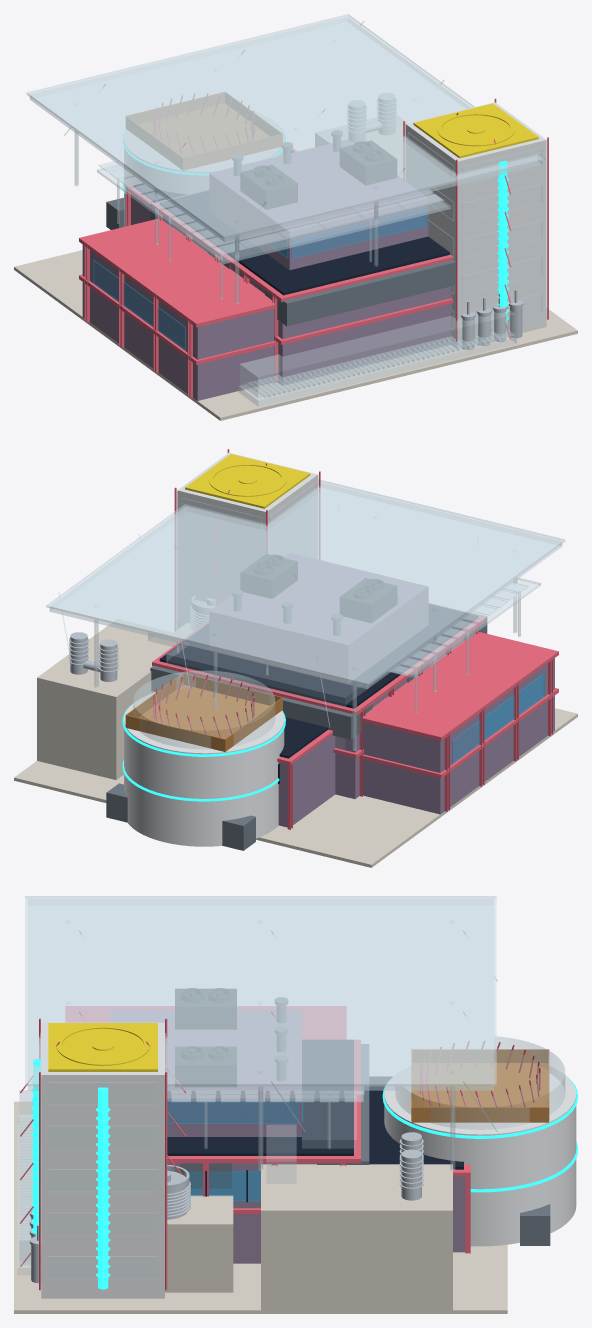
Rendered from hq_05_chassis_l7.glb.
3 renders of one model, top to bottom at view 1: azimuth 30°, elevation 25°; view 2: azimuth 150°, elevation 25°; view 3: azimuth 270°, elevation 25°, orthographic. The views are drawn at different scales.
Parts seen in each view (by area): view 1: GEO_Chassis_Aerodynamic_Glass_Canopy, GEO_Chassis_Quantum_Compute_Tower, GEO_Chassis_Damper_Lab_Shell, GEO_Chassis_KC_Structural_Beams, GEO_Chassis_KC_Wing_Brick, GEO_Chassis_MagLev_Test_Chamber, GEO_Chassis_Foundation_Plinth, GEO_Chassis_Brick_Halls, GEO_Chassis_Photovoltaic_Solar_Canopy, GEO_Chassis_Roof_Parapets_HVAC, GEO_Chassis_Rooftop_Cedar_Terrace, GEO_Chassis_Tower_Curtain_Glass (+15 smaller); view 2: GEO_Chassis_Aerodynamic_Glass_Canopy, GEO_Chassis_Damper_Lab_Shell, GEO_Chassis_DiL_Theater_Cylinder, GEO_Chassis_KC_Structural_Beams, GEO_Chassis_Brake_Dyno_Wing_Concrete, GEO_Chassis_Quantum_Compute_Tower, GEO_Chassis_KC_Wing_Brick, GEO_Chassis_Foundation_Plinth, GEO_Chassis_Roof_Parapets_HVAC, GEO_Chassis_DiL_Roof_Dome_Glass, GEO_Chassis_Rooftop_Cedar_Terrace, GEO_Chassis_Brick_Halls (+15 smaller); view 3: GEO_Chassis_Aerodynamic_Glass_Canopy, GEO_Chassis_Brake_Dyno_Wing_Concrete, GEO_Chassis_Quantum_Compute_Tower, GEO_Chassis_DiL_Theater_Cylinder, GEO_Chassis_Damper_Lab_Shell, GEO_Chassis_Foundation_Plinth, GEO_Chassis_Tower_Curtain_Glass, GEO_Chassis_Roof_Parapets_HVAC, GEO_Chassis_Rooftop_Cedar_Terrace, GEO_Chassis_DiL_Roof_Dome_Glass, GEO_Chassis_Hydraulic_Pump_Annex, GEO_Chassis_Drone_Landing_Pad (+20 smaller).
Part boxes in pixels (x1,y1,x2,y2): GEO_Chassis_Aerodynamic_Glass_Canopy: (26, 14, 545, 303); GEO_Chassis_Quantum_Compute_Tower: (405, 102, 546, 348); GEO_Chassis_Damper_Lab_Shell: (209, 139, 428, 270); GEO_Chassis_KC_Structural_Beams: (79, 218, 278, 398); GEO_Chassis_KC_Wing_Brick: (82, 244, 274, 400); GEO_Chassis_MagLev_Test_Chamber: (238, 308, 516, 406); GEO_Chassis_Foundation_Plinth: (14, 250, 577, 420); GEO_Chassis_Brick_Halls: (131, 194, 451, 385); GEO_Chassis_Photovoltaic_Solar_Canopy: (97, 161, 450, 299); GEO_Chassis_Roof_Parapets_HVAC: (134, 150, 450, 295); GEO_Chassis_Rooftop_Cedar_Terrace: (126, 92, 282, 170); GEO_Chassis_Tower_Curtain_Glass: (407, 132, 542, 329); GEO_Chassis_Aerodynamic_Glass_Canopy: (46, 479, 565, 750); GEO_Chassis_Damper_Lab_Shell: (209, 553, 428, 683); GEO_Chassis_DiL_Theater_Cylinder: (124, 692, 284, 846); GEO_Chassis_KC_Structural_Beams: (359, 632, 558, 811); GEO_Chassis_Brake_Dyno_Wing_Concrete: (37, 619, 186, 779); GEO_Chassis_Quantum_Compute_Tower: (177, 452, 318, 628); GEO_Chassis_KC_Wing_Brick: (363, 658, 554, 814); GEO_Chassis_Foundation_Plinth: (14, 708, 577, 867); GEO_Chassis_Roof_Parapets_HVAC: (159, 604, 477, 758); GEO_Chassis_DiL_Roof_Dome_Glass: (133, 670, 275, 749); GEO_Chassis_Rooftop_Cedar_Terrace: (125, 673, 282, 751); GEO_Chassis_Brick_Halls: (278, 637, 464, 827); GEO_Chassis_Aerodynamic_Glass_Canopy: (25, 896, 497, 1170); GEO_Chassis_Brake_Dyno_Wing_Concrete: (261, 1164, 452, 1310); GEO_Chassis_Quantum_Compute_Tower: (41, 1022, 164, 1298); GEO_Chassis_DiL_Theater_Cylinder: (384, 1066, 576, 1246); GEO_Chassis_Damper_Lab_Shell: (110, 1010, 301, 1136); GEO_Chassis_Foundation_Plinth: (14, 1101, 507, 1313); GEO_Chassis_Tower_Curtain_Glass: (40, 1033, 166, 1279); GEO_Chassis_Roof_Parapets_HVAC: (167, 1040, 463, 1169); GEO_Chassis_Rooftop_Cedar_Terrace: (411, 1049, 549, 1122); GEO_Chassis_DiL_Roof_Dome_Glass: (395, 1036, 565, 1129); GEO_Chassis_Hydraulic_Pump_Annex: (165, 1195, 233, 1292); GEO_Chassis_Drone_Landing_Pad: (48, 1023, 157, 1071).
Size of what is drawn, in the model's own units: 36.27 by 18.88 by 41.12.
